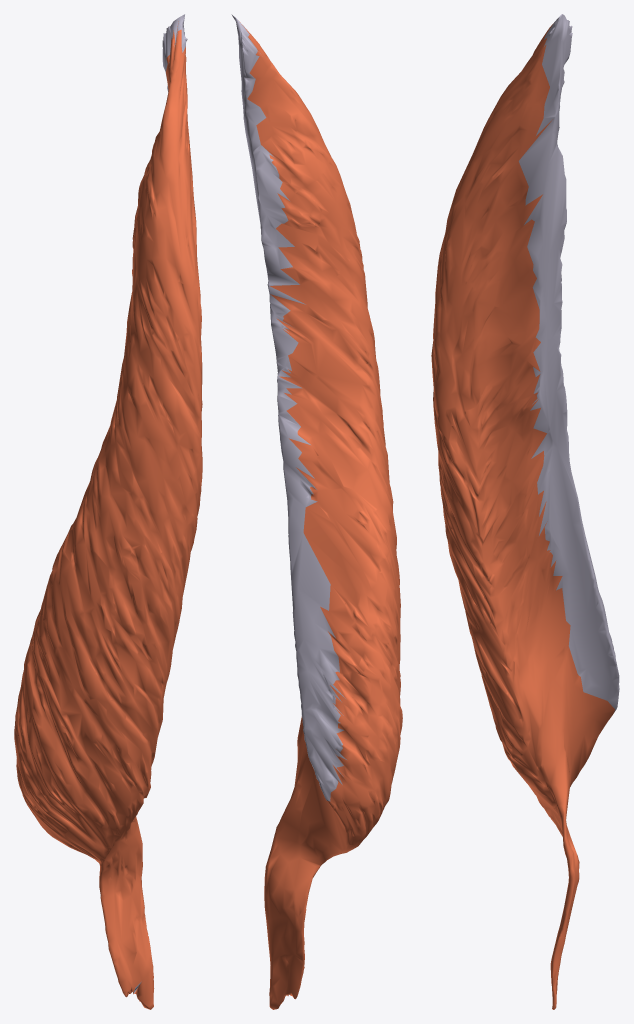
The model's file is Vastus_medialis_left.glb.
3 renders of one model, left to right at view 1: azimuth 30°, elevation 25°; view 2: azimuth 150°, elevation 25°; view 3: azimuth 270°, elevation 25°, orthographic. The views are drawn at different scales.
Visible parts, largest first — view 1: Vastus_medialis_muscle.l_Generated_Mesh_From_X3D.127; view 2: Vastus_medialis_muscle.l_Generated_Mesh_From_X3D.127; view 3: Vastus_medialis_muscle.l_Generated_Mesh_From_X3D.127.
Boxes of the visible parts, x1=… form: Vastus_medialis_muscle.l_Generated_Mesh_From_X3D.127: x1=14, y1=14, x2=202, y2=1009; Vastus_medialis_muscle.l_Generated_Mesh_From_X3D.127: x1=231, y1=14, x2=402, y2=1009; Vastus_medialis_muscle.l_Generated_Mesh_From_X3D.127: x1=431, y1=14, x2=619, y2=1009.
Size of the model in its own units: 0.0716 by 0.4079 by 0.0685.
